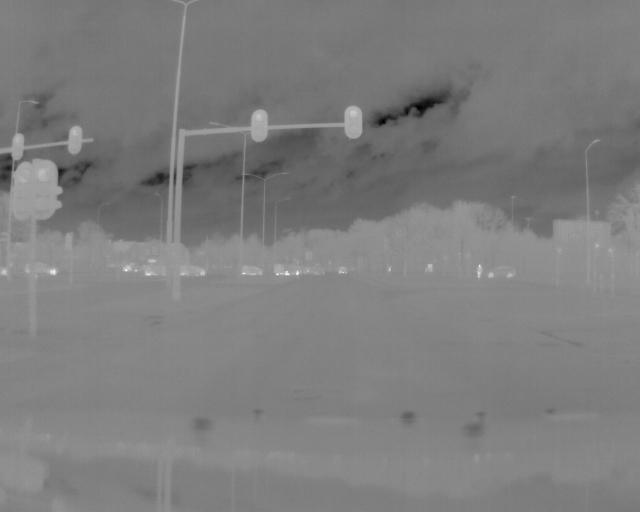car: (237, 263, 266, 278)
person: (474, 263, 484, 278)
